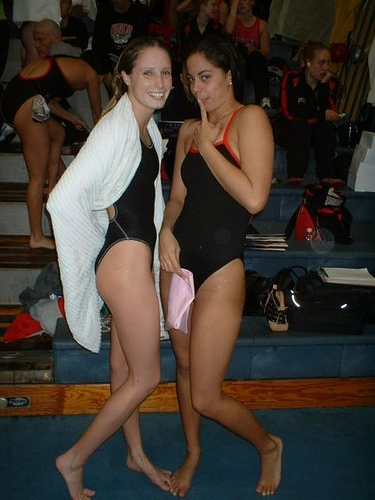without_mask: (120, 45, 174, 109), (184, 52, 237, 113), (30, 20, 64, 61), (301, 46, 333, 82), (197, 1, 218, 21), (232, 1, 255, 14)
